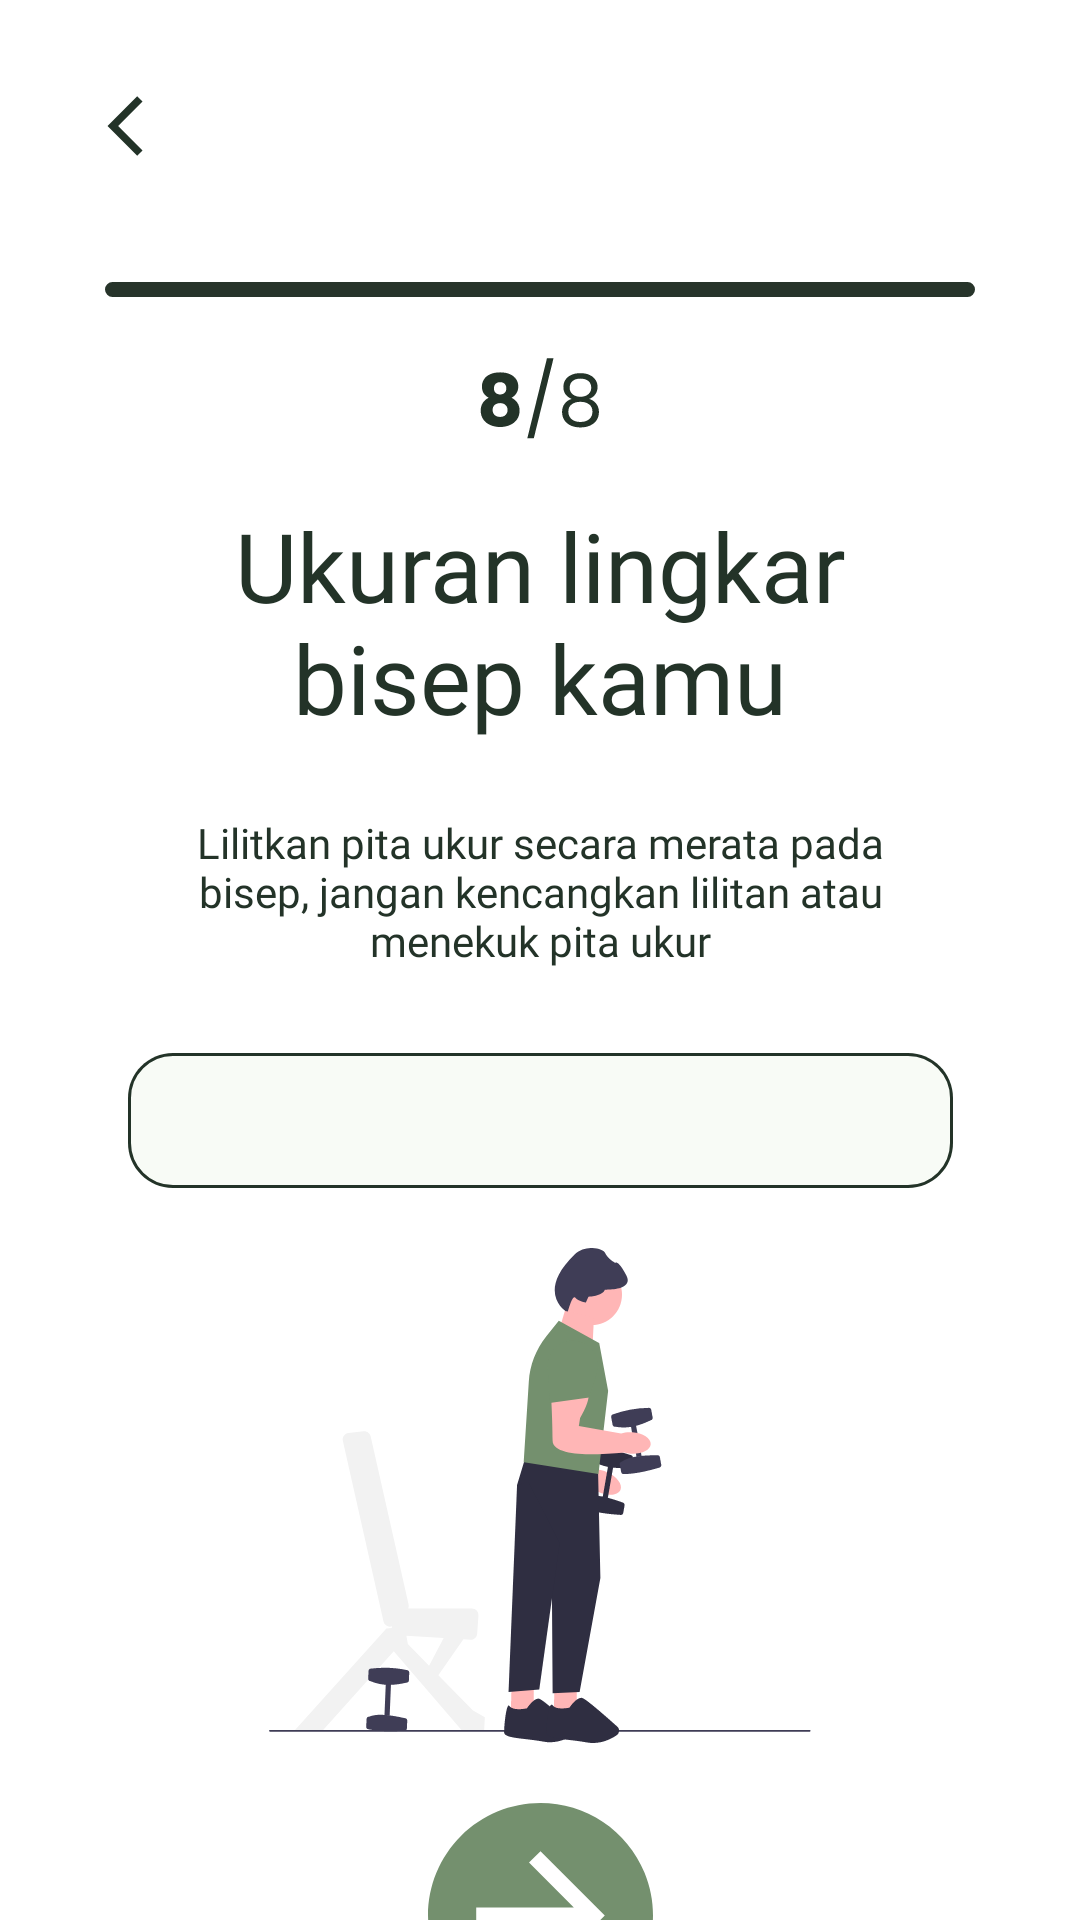

Icon click points for this 1080w x 1920h phone screenshot, format (x,y):
back: (125,126)
